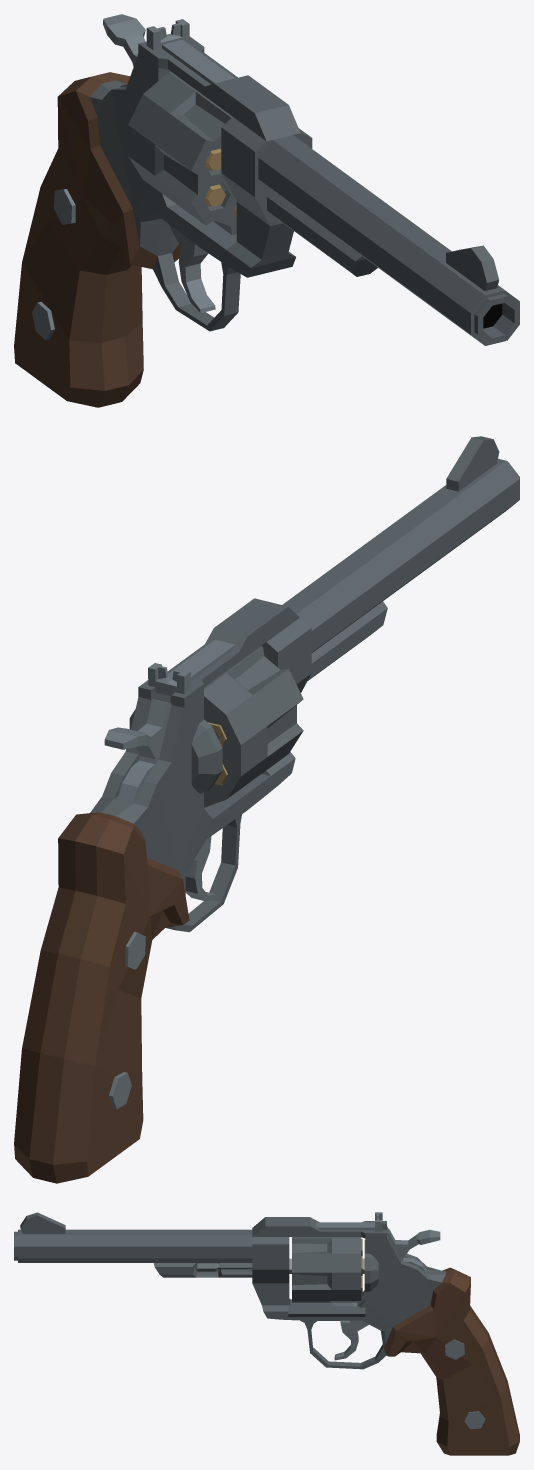
File: SM_Wep_Revolver_01.fbx
3 renders of one model, top to bottom at view 1: azimuth 30°, elevation 25°; view 2: azimuth 150°, elevation 25°; view 3: azimuth 270°, elevation 25°, orthographic. The views are drawn at different scales.
Visible parts, largest first — view 1: SM_Wep_Revolver_01, SM_Wep_Revolver_Cylinder_01, SM_Wep_Revolver_Trigger_01, SM_Wep_Revolver_Hammer_01; view 2: SM_Wep_Revolver_01, SM_Wep_Revolver_Cylinder_01, SM_Wep_Revolver_Hammer_01, SM_Wep_Revolver_Trigger_01; view 3: SM_Wep_Revolver_01, SM_Wep_Revolver_Cylinder_01, SM_Wep_Revolver_CylinderFlip_01, SM_Wep_Revolver_Hammer_01, SM_Wep_Revolver_Trigger_01.
Part boxes in pixels (box(x1,y1,x2,y2)): SM_Wep_Revolver_01: box(14, 19, 519, 407); SM_Wep_Revolver_Cylinder_01: box(128, 71, 236, 234); SM_Wep_Revolver_Trigger_01: box(169, 224, 215, 312); SM_Wep_Revolver_Hammer_01: box(103, 14, 145, 87); SM_Wep_Revolver_01: box(14, 436, 519, 1183); SM_Wep_Revolver_Cylinder_01: box(129, 646, 303, 807); SM_Wep_Revolver_Hammer_01: box(104, 699, 171, 802); SM_Wep_Revolver_Trigger_01: box(185, 836, 216, 901); SM_Wep_Revolver_01: box(14, 1212, 519, 1455); SM_Wep_Revolver_Cylinder_01: box(289, 1237, 364, 1302); SM_Wep_Revolver_CylinderFlip_01: box(197, 1263, 365, 1316); SM_Wep_Revolver_Hammer_01: box(386, 1229, 440, 1273); SM_Wep_Revolver_Trigger_01: box(334, 1302, 368, 1360).
Bounding box in the file's own units: 5.54 × 20.28 × 39.42.
